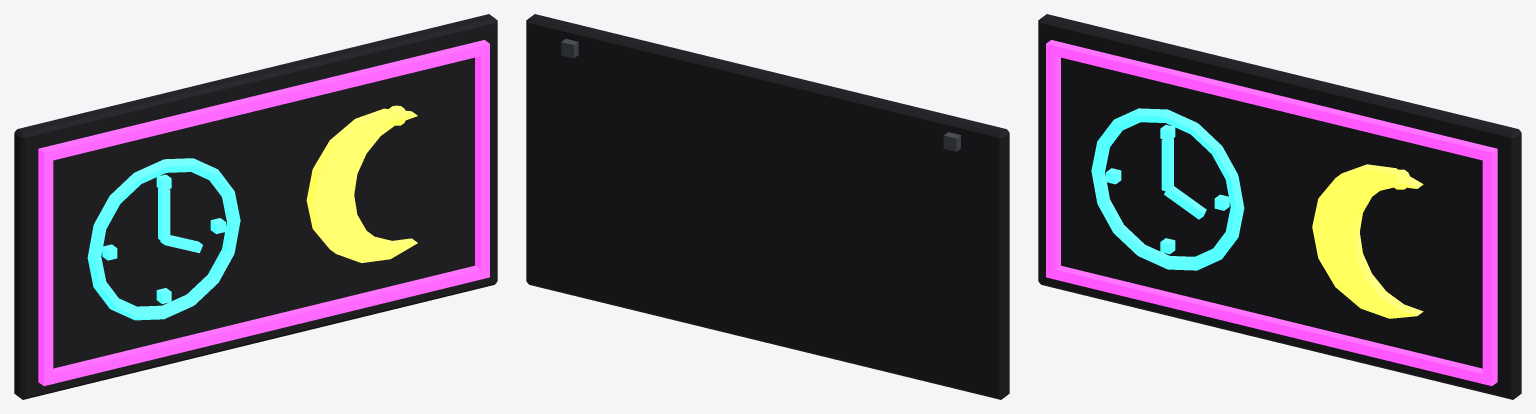
The model's file is Neon_Clock_Moon_Open.glb.
The picture shows the model from 3 angles, left to right: view 1: azimuth 30°, elevation 25°; view 2: azimuth 150°, elevation 25°; view 3: azimuth 330°, elevation 25°; orthographic projection.
Visible parts, largest first — view 1: Neon_Clock_Moon_Open; view 2: Neon_Clock_Moon_Open; view 3: Neon_Clock_Moon_Open.
Boxes of the visible parts, x1,y1,x2,y2 form: Neon_Clock_Moon_Open: [14, 14, 497, 399]; Neon_Clock_Moon_Open: [526, 14, 1009, 399]; Neon_Clock_Moon_Open: [1038, 14, 1521, 399].
Size of the model in its own units: 1.5 by 0.8 by 0.135.
1 material, 1 textured.
